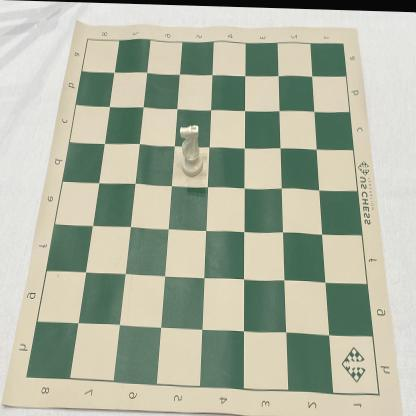white-knight: (180, 123, 204, 177)
